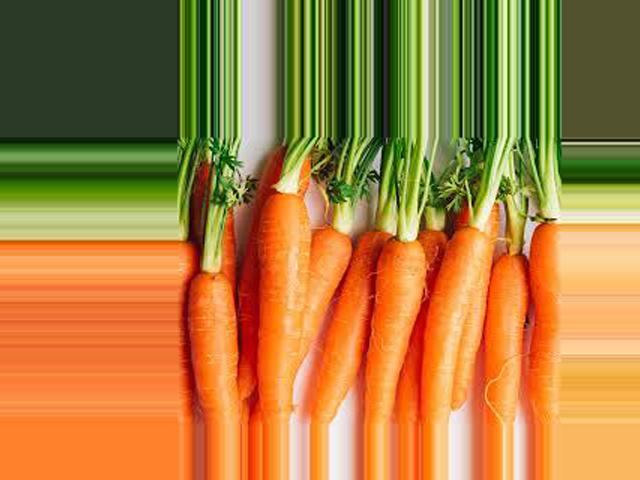carrot: (179, 242, 236, 428)
